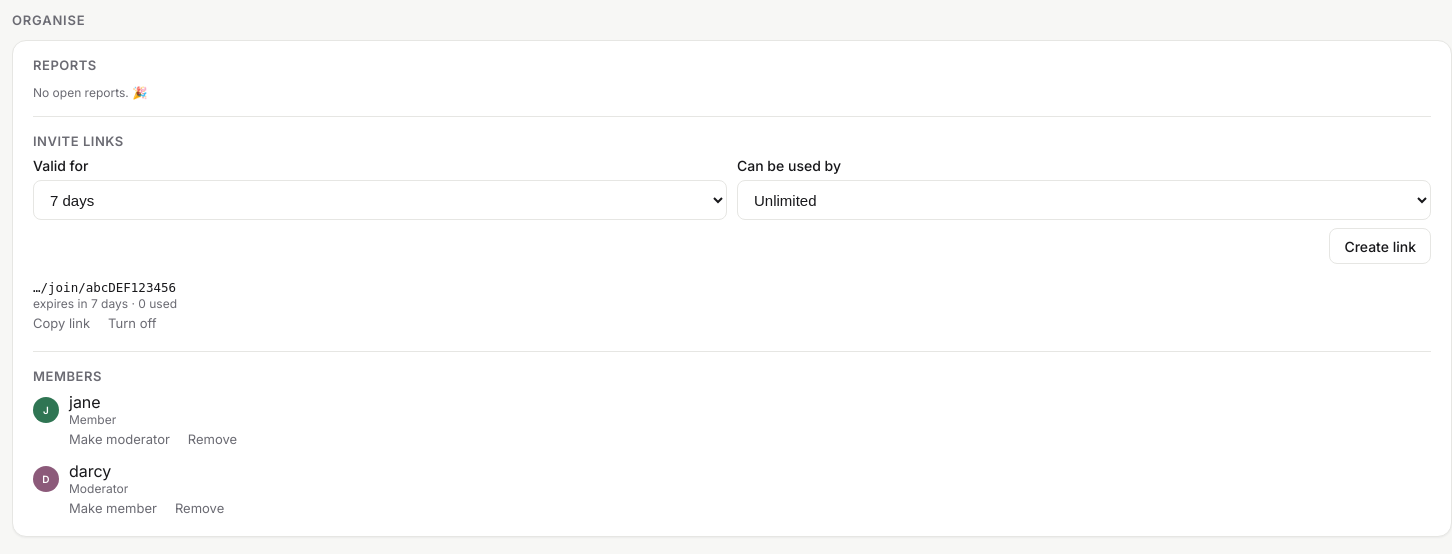
Test case: invite links › copy puts the full link on the clipboard
The image size is (1452, 554).
What coordinates should you click on to do the following:
click the button "Copy link"
I would click on:
 (62, 323)
Its box is 25,311 -> 98,335.
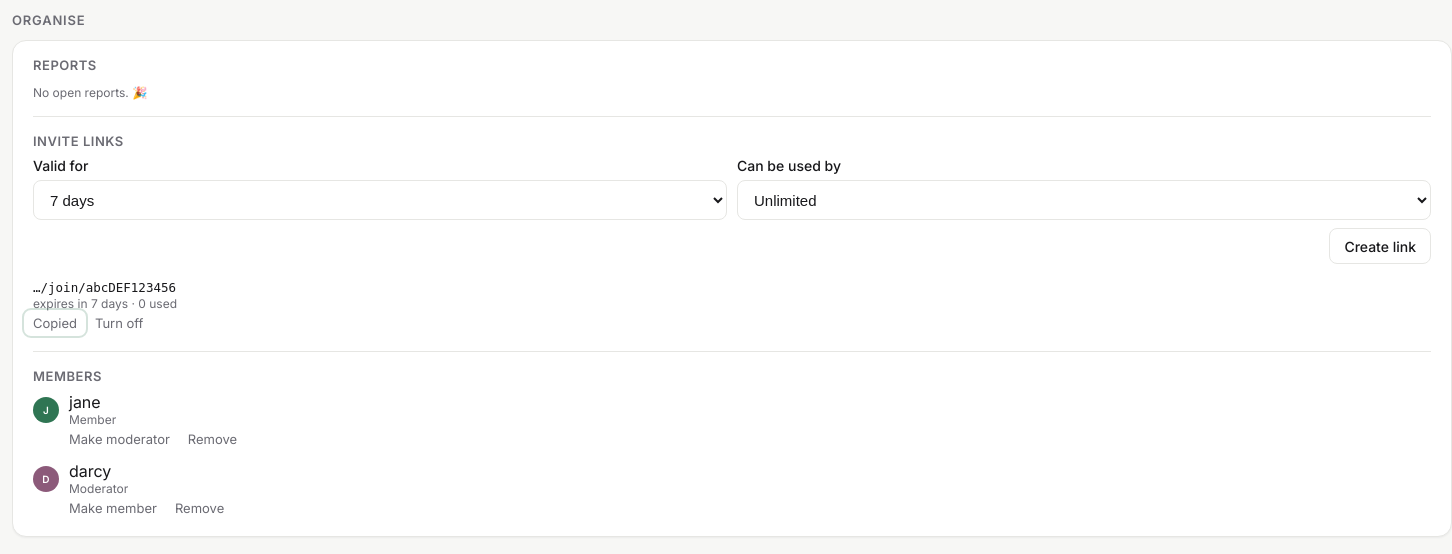
Result: the button "Copied" is shown at 25,311 -> 85,335
